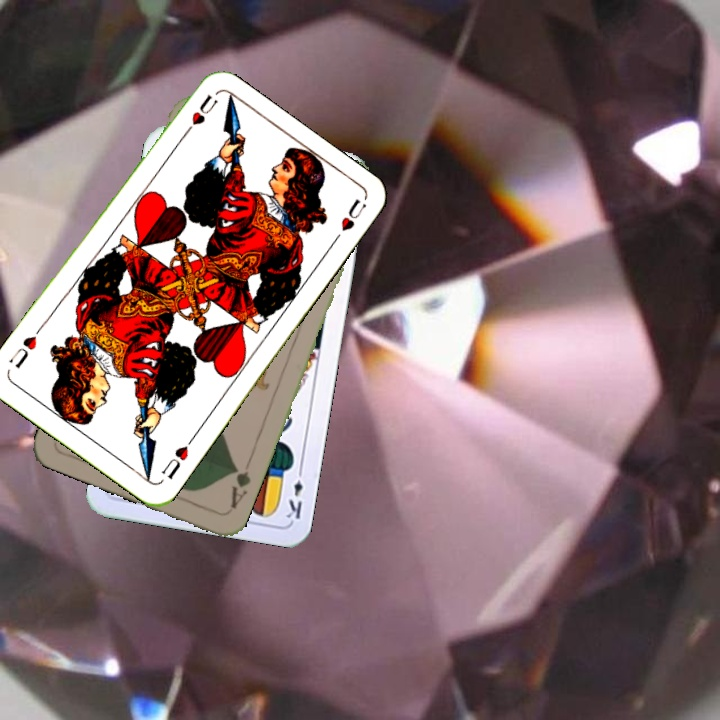EK: (283, 463, 306, 522)
GA: (226, 462, 254, 512)
HU: (177, 90, 220, 141), (157, 433, 197, 482)
